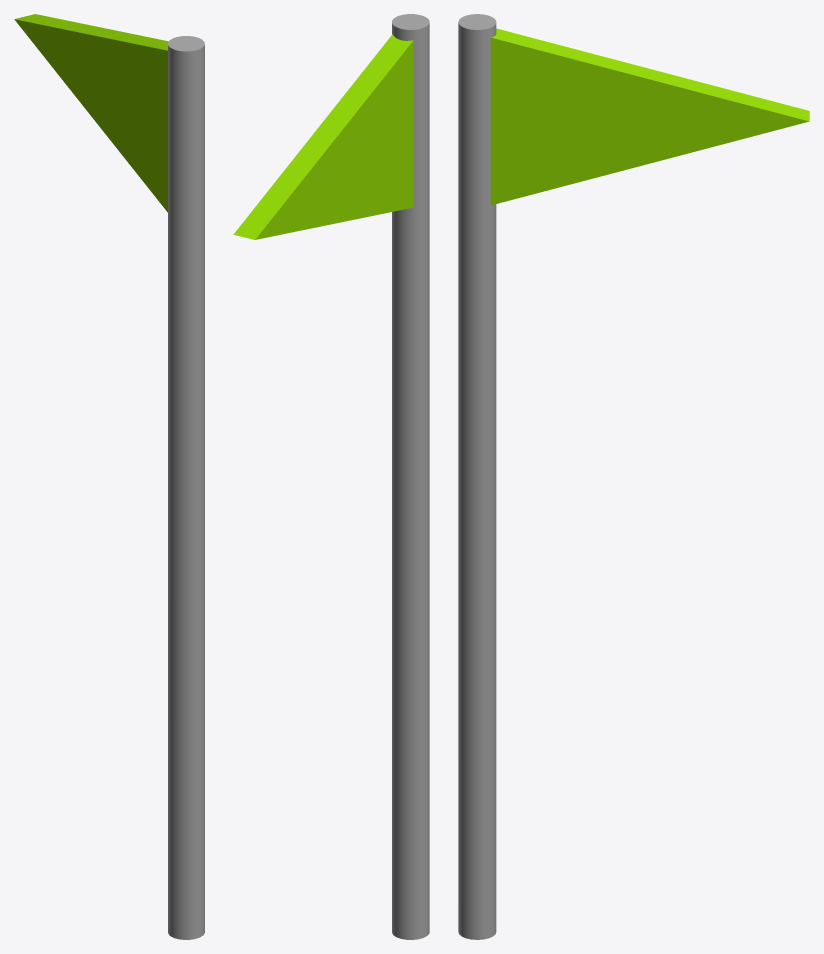
The model's file is flag pole.fbx.
3 renders of one model, left to right at view 1: azimuth 30°, elevation 25°; view 2: azimuth 150°, elevation 25°; view 3: azimuth 270°, elevation 25°, orthographic. The views are drawn at different scales.
Visible parts, largest first — view 1: pCylinder2; view 2: pCylinder2; view 3: pCylinder2.
Boxes of the visible parts, left/top/right/bottom form: pCylinder2: left=14, top=14, right=204, bottom=939; pCylinder2: left=233, top=14, right=429, bottom=939; pCylinder2: left=458, top=14, right=809, bottom=939.
Size of the model in its own units: 9.65 by 255 by 89.05.
